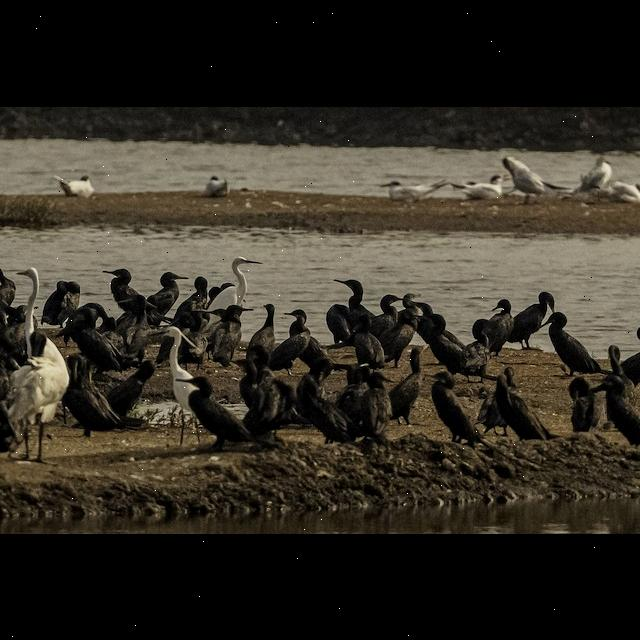cormorant: (68, 354, 142, 436), (174, 376, 246, 448), (490, 376, 556, 438), (294, 375, 348, 449), (540, 312, 596, 374), (432, 372, 474, 442), (358, 372, 396, 438), (590, 382, 630, 442), (456, 318, 496, 374), (216, 304, 254, 362), (279, 306, 315, 366), (402, 343, 431, 417), (351, 312, 385, 368), (46, 278, 80, 324), (328, 271, 368, 305), (98, 265, 136, 295), (151, 268, 189, 298)
egret: (8, 341, 66, 465), (212, 255, 262, 302), (144, 322, 190, 371), (13, 264, 42, 330)
